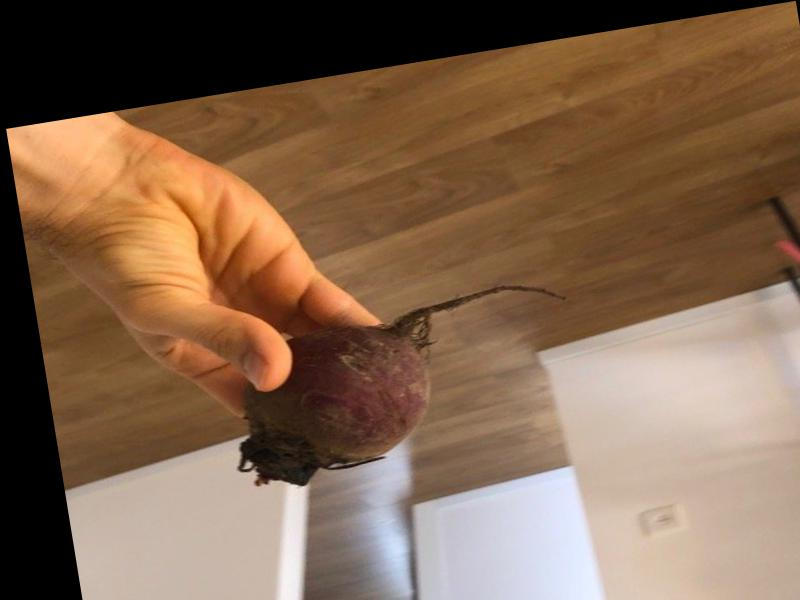Beet: (220, 277, 591, 493)
